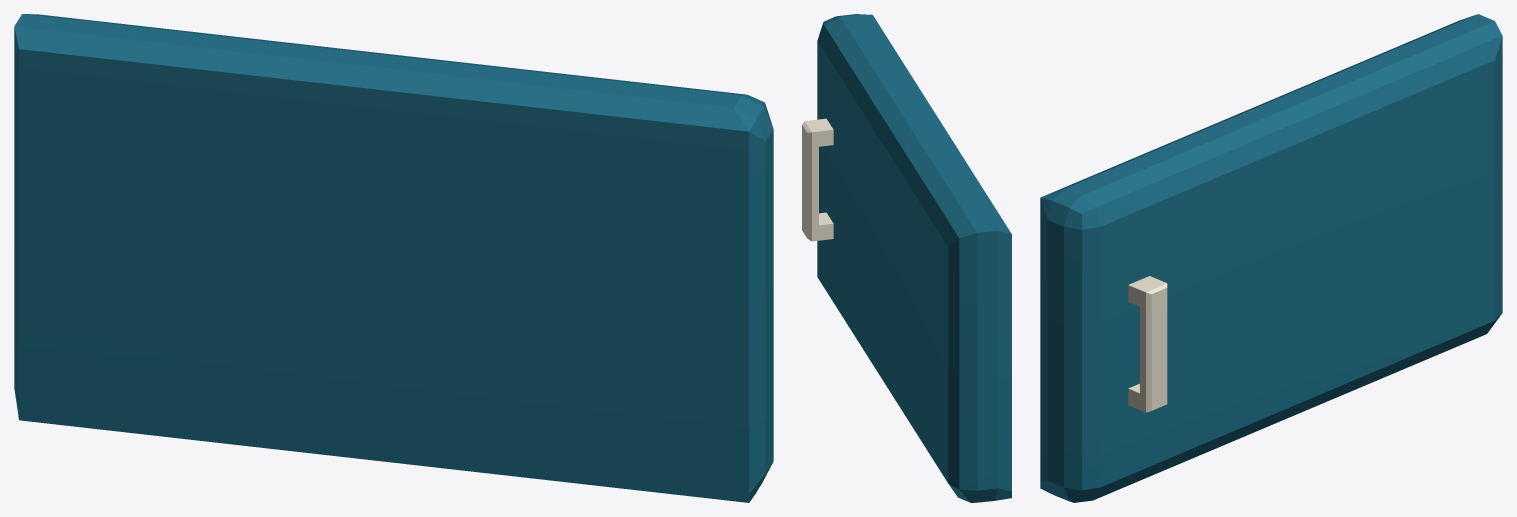
The model's file is fridge1-part1.glb.
The picture shows the model from 3 angles, left to right: view 1: azimuth 30°, elevation 25°; view 2: azimuth 150°, elevation 25°; view 3: azimuth 270°, elevation 25°; orthographic projection. The views are drawn at different scales.
Visible parts, largest first — view 1: Fridge1Part1.001; view 2: Fridge1Part1.001; view 3: Fridge1Part1.001.
Part boxes in pixels (box(x1,y1,x2,y2)): Fridge1Part1.001: box(14, 14, 773, 502); Fridge1Part1.001: box(802, 14, 1011, 502); Fridge1Part1.001: box(1040, 14, 1502, 502).
Bounding box in the file's own units: 0.7582 × 0.5455 × 0.7582.
1 material, 1 textured.
